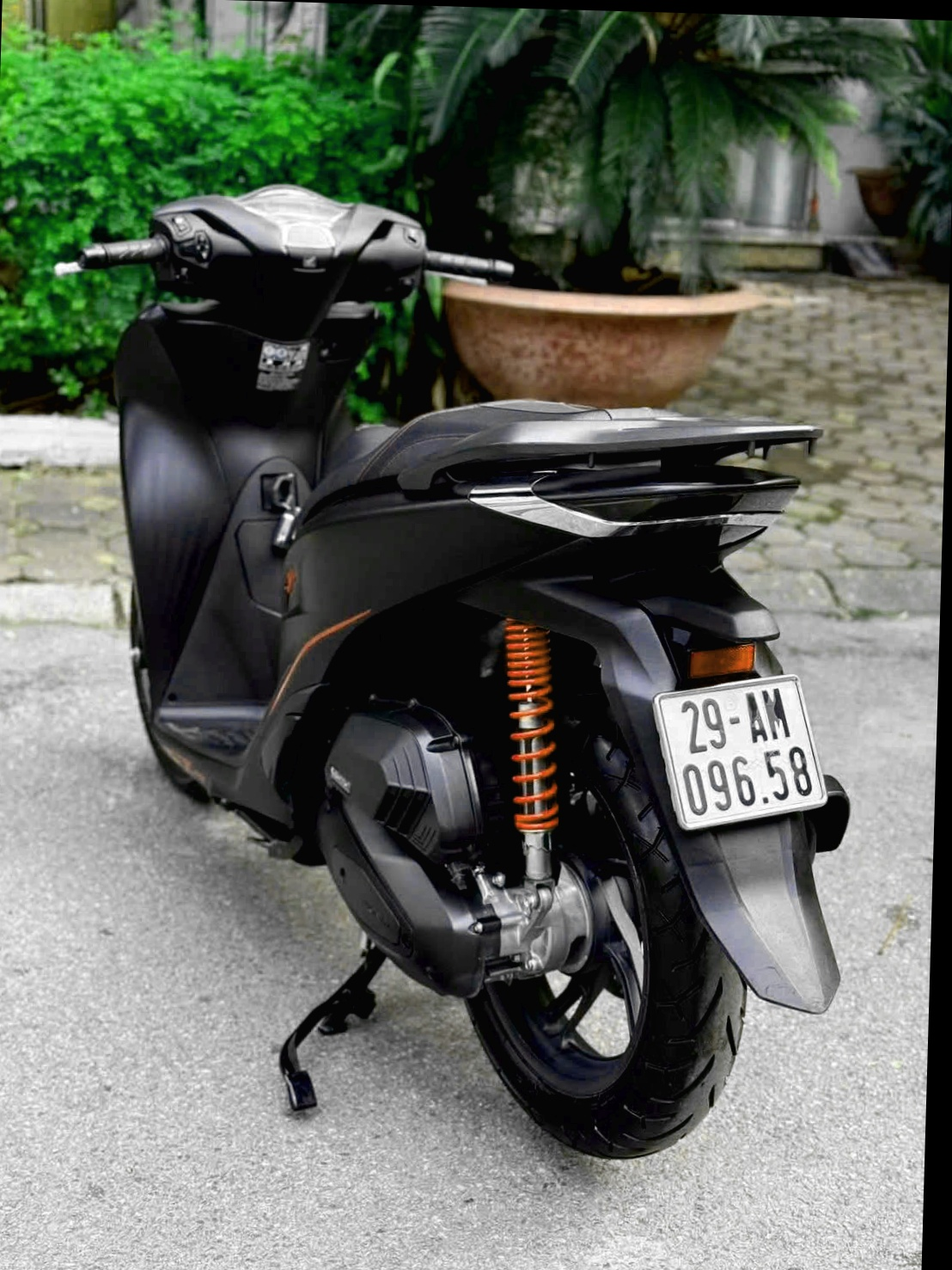Bien-so: (683, 612, 858, 782)
